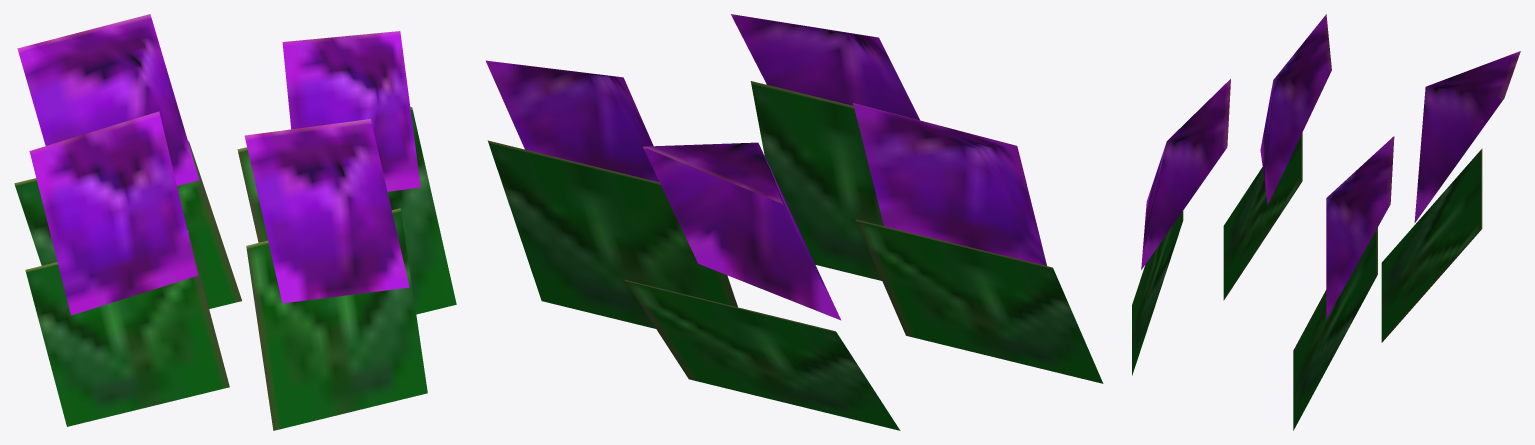
Rendered from flw_tulip_vi.dae.
3 renders of one model, left to right at view 1: azimuth 30°, elevation 25°; view 2: azimuth 150°, elevation 25°; view 3: azimuth 270°, elevation 25°, orthographic. The views are drawn at different scales.
Visible parts, largest first — view 1: flw_tulip_vi; view 2: flw_tulip_vi; view 3: flw_tulip_vi.
Boxes of the visible parts, bbox=[...] form: flw_tulip_vi: bbox=[14, 14, 456, 430]; flw_tulip_vi: bbox=[486, 14, 1103, 430]; flw_tulip_vi: bbox=[1132, 14, 1520, 430].
Bounding box in the file's own units: 30.95 × 17.79 × 25.83.
Materials: 1 (1 with a texture image).
